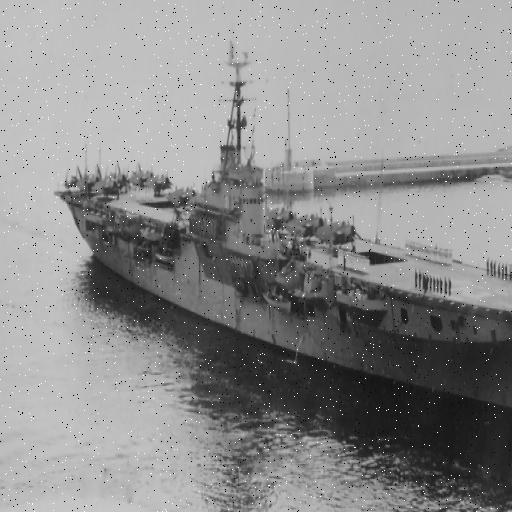Portanaves: (50, 33, 512, 445)
